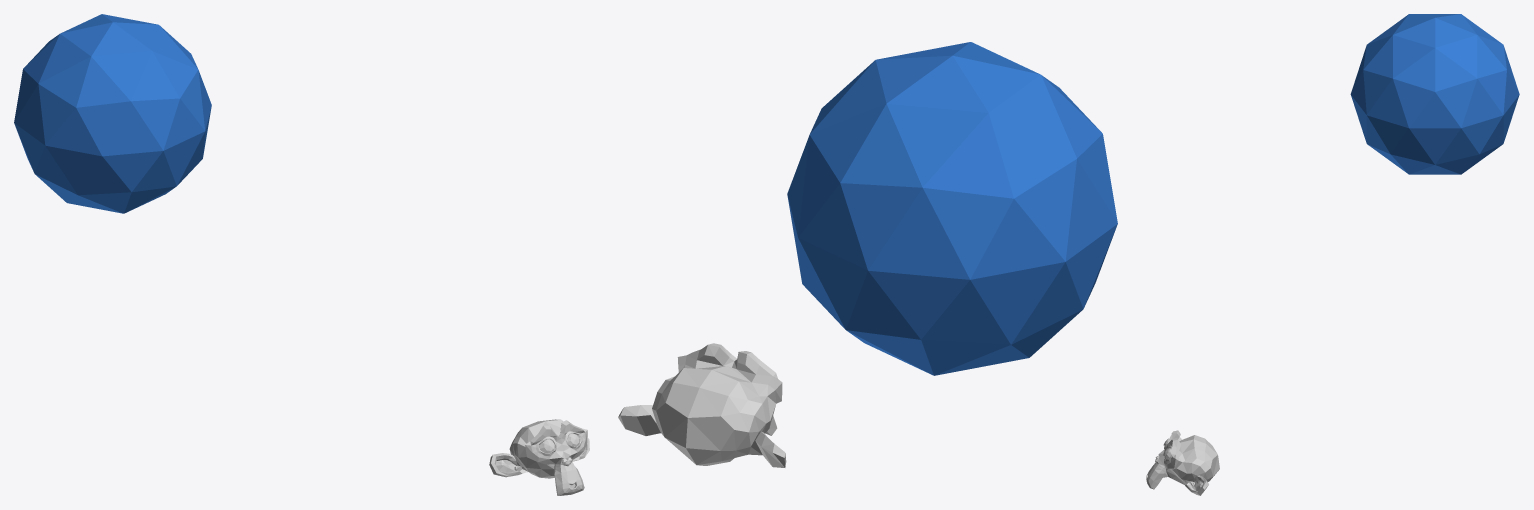
3 renders of one model, left to right at view 1: azimuth 30°, elevation 25°; view 2: azimuth 150°, elevation 25°; view 3: azimuth 270°, elevation 25°, orthographic. The views are drawn at different scales.
Parts seen in each view (by area): view 1: Icosphere, Suzanne; view 2: Icosphere, Suzanne; view 3: Icosphere, Suzanne.
Part boxes in pixels (left/top/right/bottom): Icosphere: left=14, top=14, right=211, bottom=213; Suzanne: left=489, top=419, right=589, bottom=495; Icosphere: left=787, top=42, right=1117, bottom=375; Suzanne: left=618, top=343, right=786, bottom=467; Icosphere: left=1350, top=14, right=1519, bottom=174; Suzanne: left=1146, top=430, right=1219, bottom=495.
Size of the model in its own units: 4.81 by 4.42 by 4.57.
